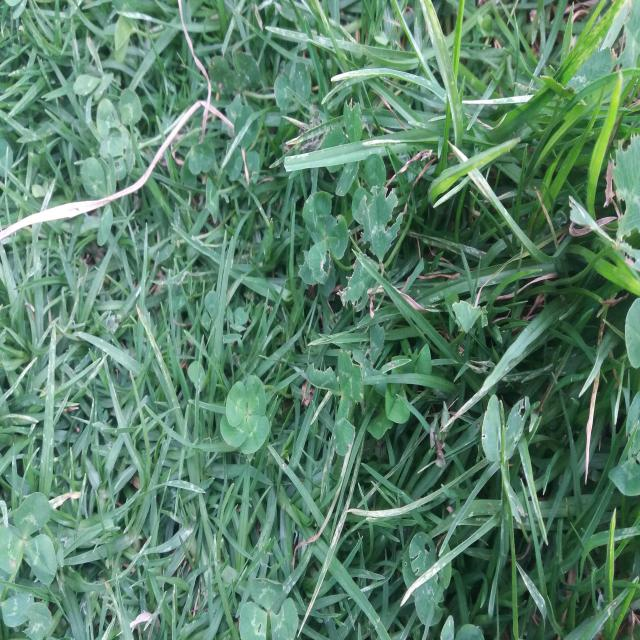Four Leaf Clover: (220, 374, 269, 454)
